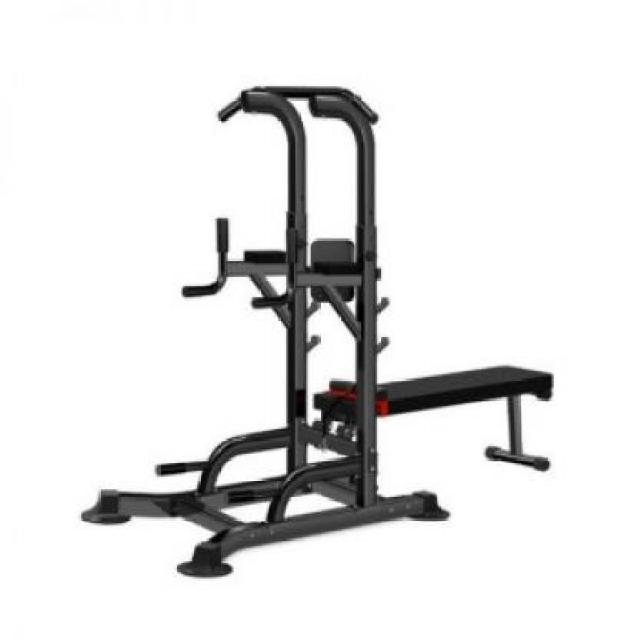chinning dipping: (78, 84, 377, 576)
